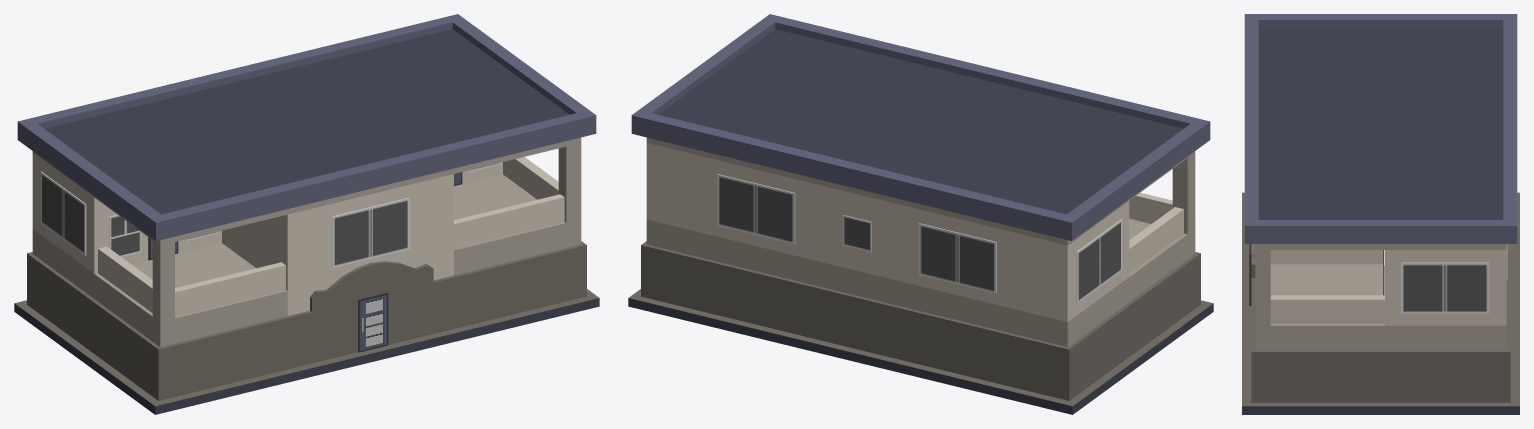
Rendered from house11_color01.fbx.
3 renders of one model, left to right at view 1: azimuth 30°, elevation 25°; view 2: azimuth 150°, elevation 25°; view 3: azimuth 270°, elevation 25°, orthographic.
Visible parts, largest first — view 1: House11 V1; view 2: House11 V1; view 3: House11 V1.
Part boxes in pixels (bbox=[...]): House11 V1: bbox=[14, 14, 599, 414]; House11 V1: bbox=[628, 14, 1213, 414]; House11 V1: bbox=[1242, 14, 1519, 414].
Size of the model in its own units: 1921 by 789 by 1055.
